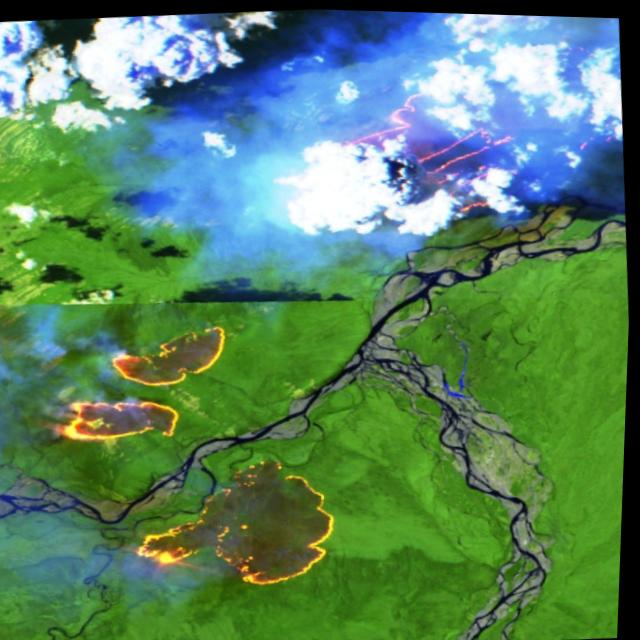fire: (123, 447, 351, 599), (316, 73, 529, 228), (44, 315, 245, 451)
